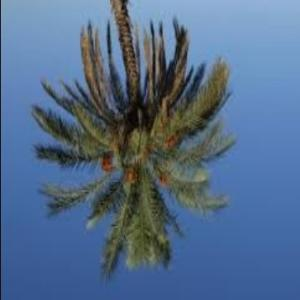palm tree: (30, 0, 236, 284)
